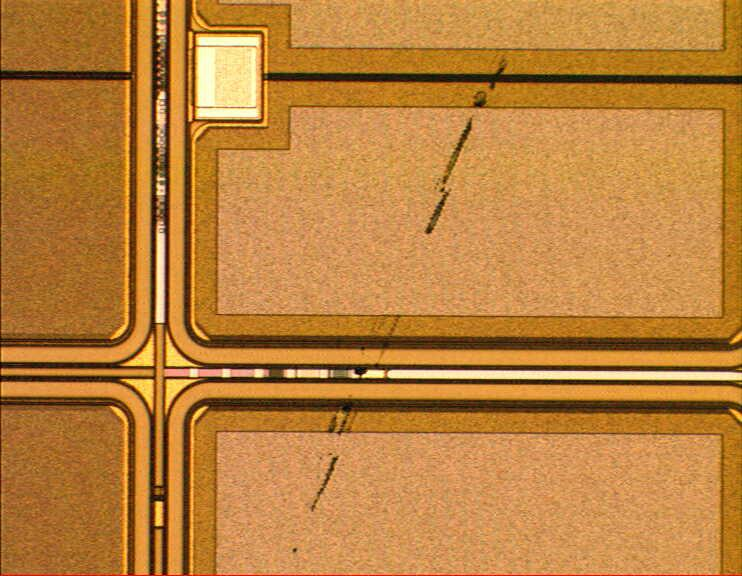SCRATCH: (282, 1, 551, 559)
